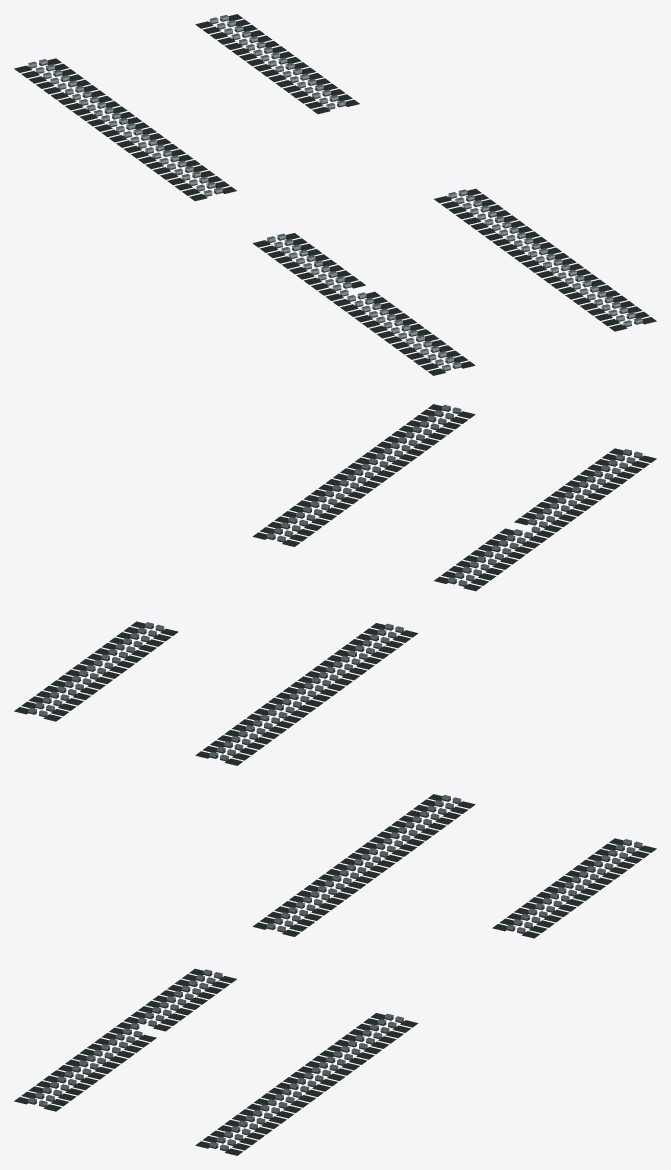
Rendered from G3_REMAINING_BANK_RECEIVERS_r001.glb.
3 views of the same model, one above another, from view 1: azimuth 30°, elevation 25°; view 2: azimuth 150°, elevation 25°; view 3: azimuth 330°, elevation 25° (orthographic).
Bounding box in the file's own units: 212 × 3.58 × 690.
Materials: 3 (3 with a texture image).
